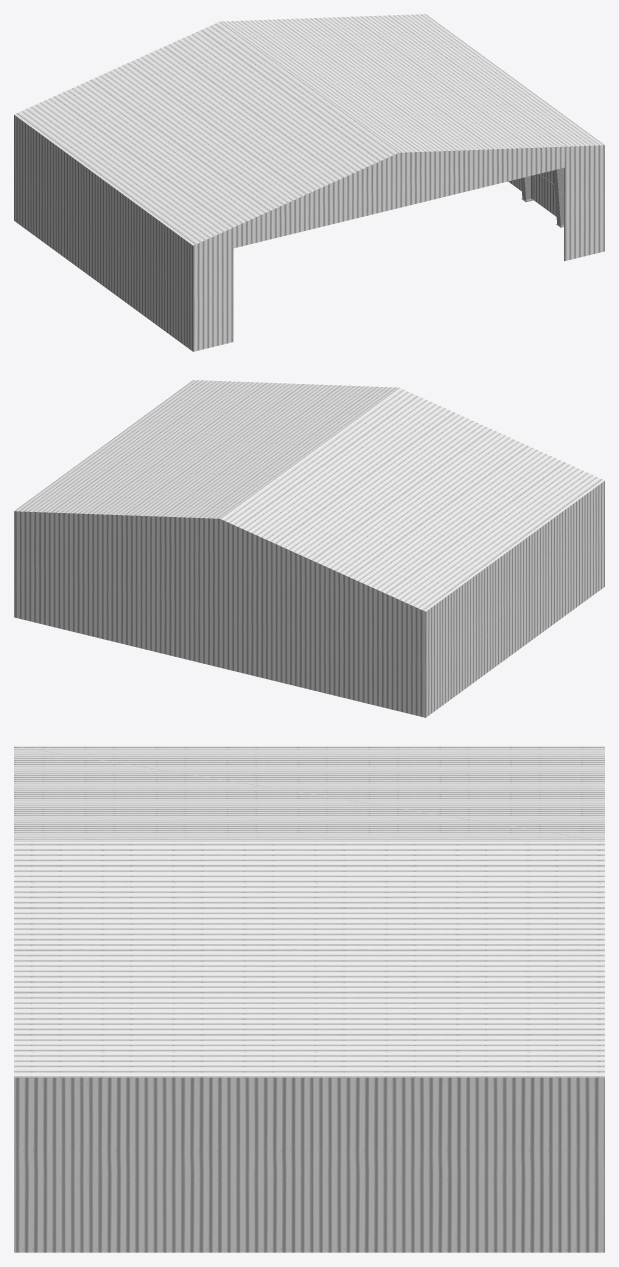
Rendered from ChimNirLargeHangar2_LOD0.gltf.
3 views of the same model, one above another, from view 1: azimuth 30°, elevation 25°; view 2: azimuth 150°, elevation 25°; view 3: azimuth 270°, elevation 25° (orthographic). The views are drawn at different scales.
Visible parts, largest first — view 1: node2, node1, node4; view 2: node2, node1; view 3: node2, node1.
Part boxes in pixels (box(x1,y1,x2,y2)): node2: box(14, 14, 604, 245); node1: box(14, 115, 604, 351); node4: box(521, 168, 563, 227); node2: box(14, 380, 604, 611); node1: box(14, 481, 604, 717); node2: box(14, 746, 604, 1077); node1: box(14, 1077, 604, 1252).
Bounding box in the file's own units: 19.9 × 6.88 × 15.
